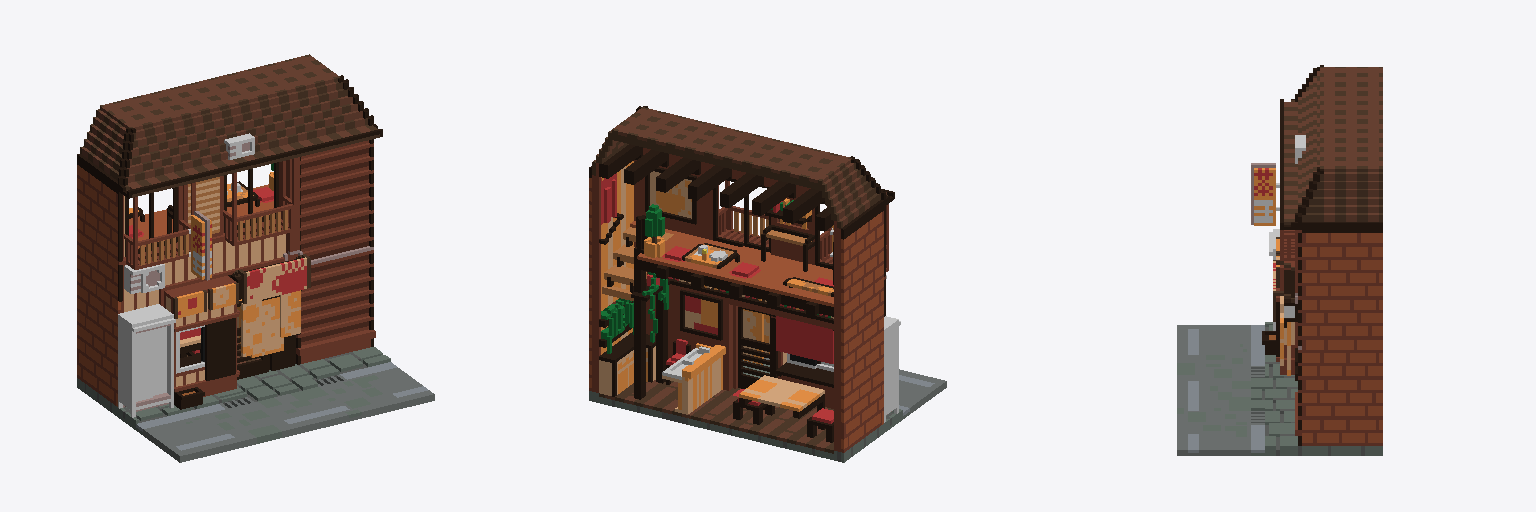
The picture shows the model from 3 angles: view 1: azimuth 30°, elevation 25°; view 2: azimuth 150°, elevation 25°; view 3: azimuth 270°, elevation 25°; orthographic projection.
Bounding box in the file's own units: 80 × 83 × 56.
1 materials, 1 textured.